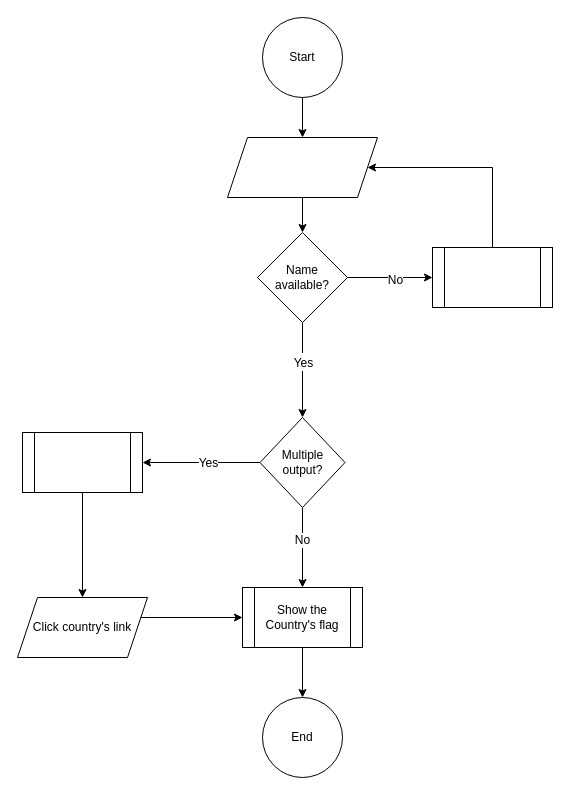
Image size: 570x795. Some labels were removed from this diagram. The centre of each missing label's shape, as x and y in pixels:
"Input Country's name" belongs at (x=302, y=167).
"Show that the country does not exist" belongs at (x=492, y=277).
"Show the countries and links to their flags" belongs at (x=82, y=462).
